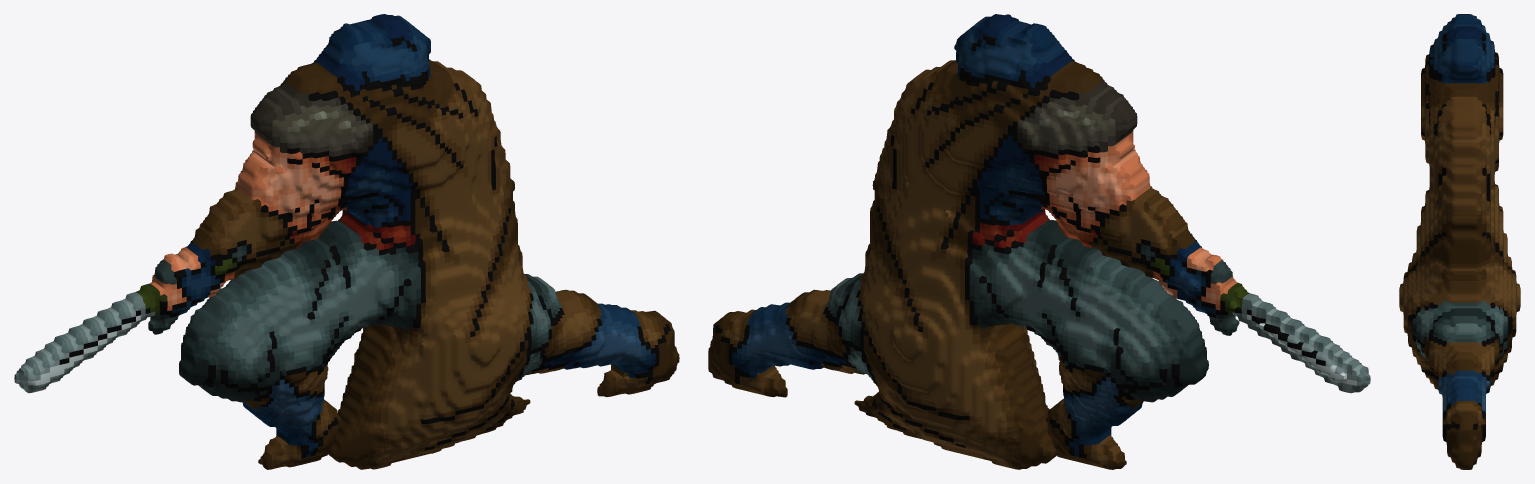
The model's file is Fight_713_2_07.obj.
3 renders of one model, left to right at view 1: azimuth 30°, elevation 25°; view 2: azimuth 150°, elevation 25°; view 3: azimuth 270°, elevation 25°, orthographic. The views are drawn at different scales.
Bounding box in the file's own units: 13.78 × 8.8 × 2.8.
Materials: 1 (1 with a texture image).
